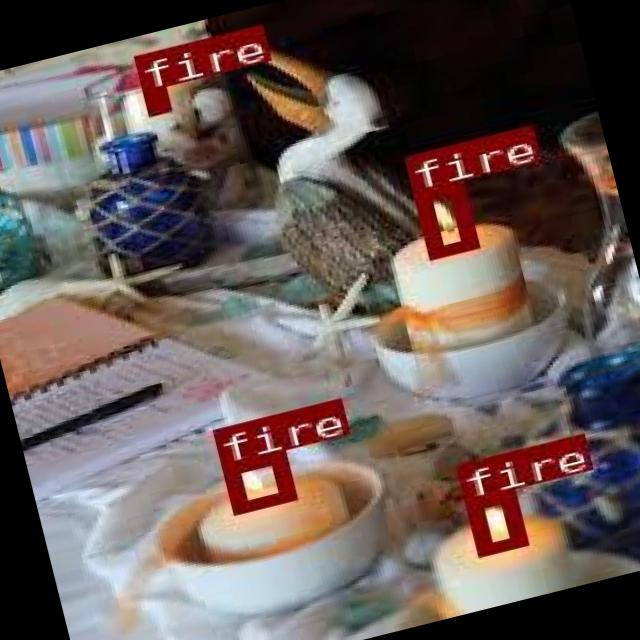fire: (409, 180, 474, 256), (219, 448, 293, 512), (464, 490, 525, 555), (132, 50, 168, 113)
